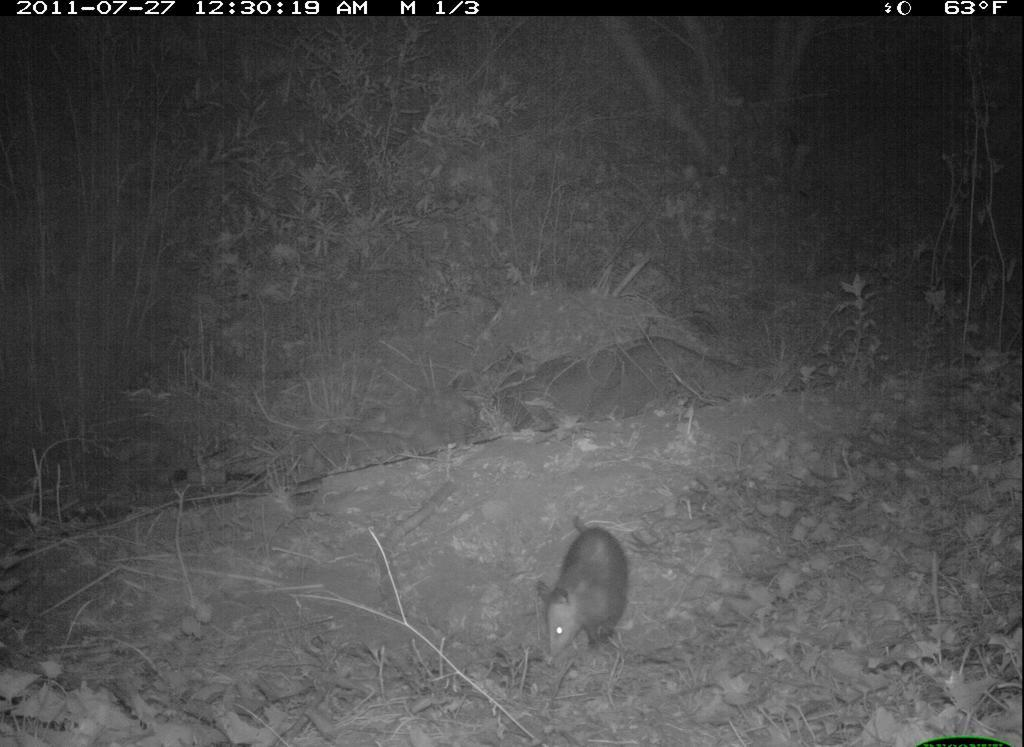opossum: (537, 509, 638, 678)
